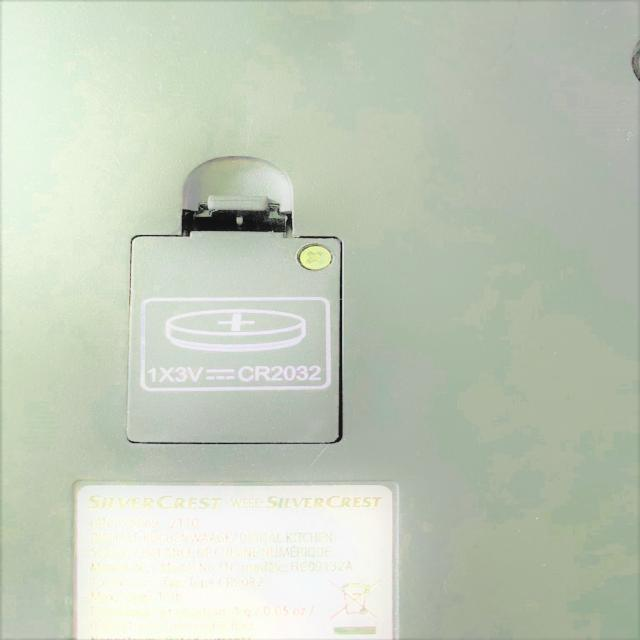PhillipsScrewHead: (296, 243, 334, 270)
